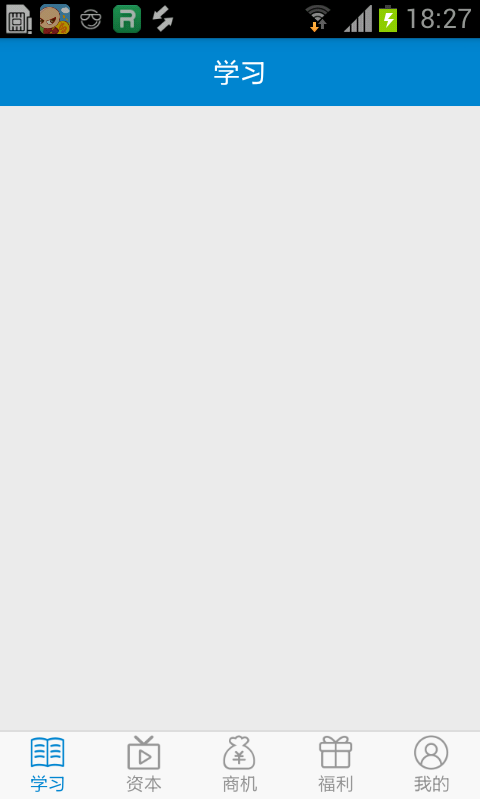nav: (2, 727, 480, 796)
